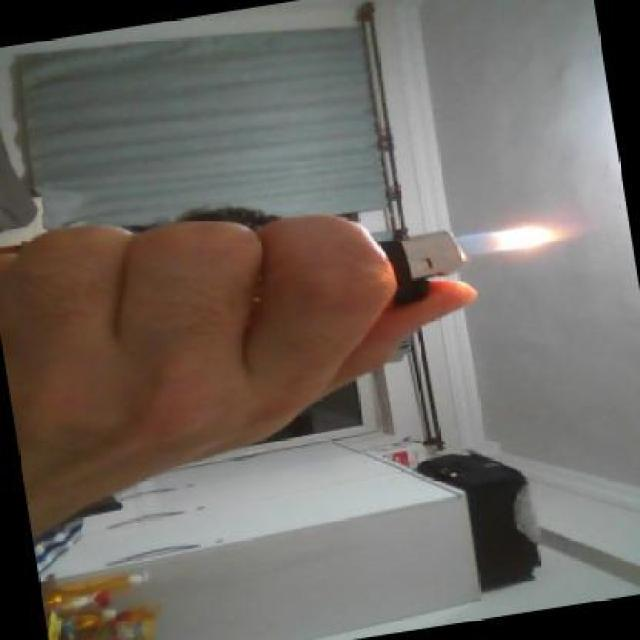Fire: (454, 214, 592, 262)
